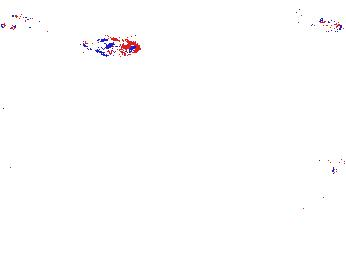X-ray fish: (303, 161, 342, 193), (107, 19, 144, 48), (318, 153, 346, 174)
red belly glassfish: (298, 8, 342, 36), (81, 37, 141, 57)
